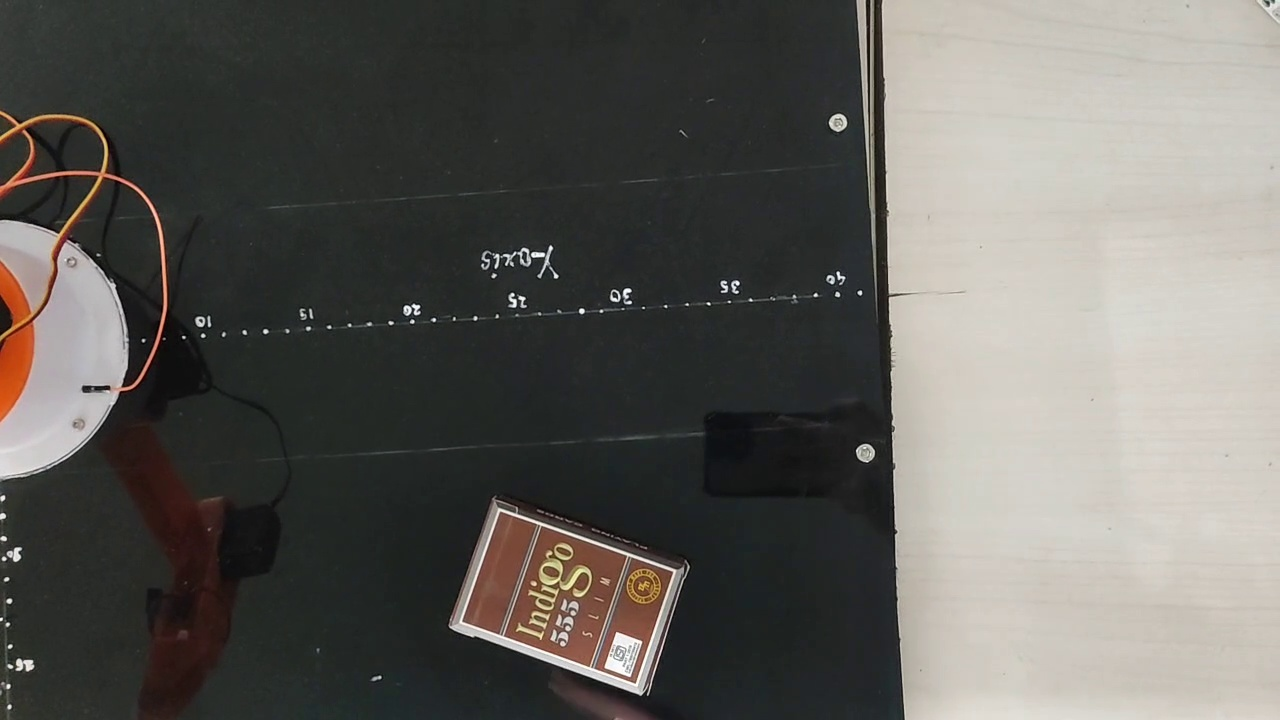BEX: (457, 513, 673, 683)
